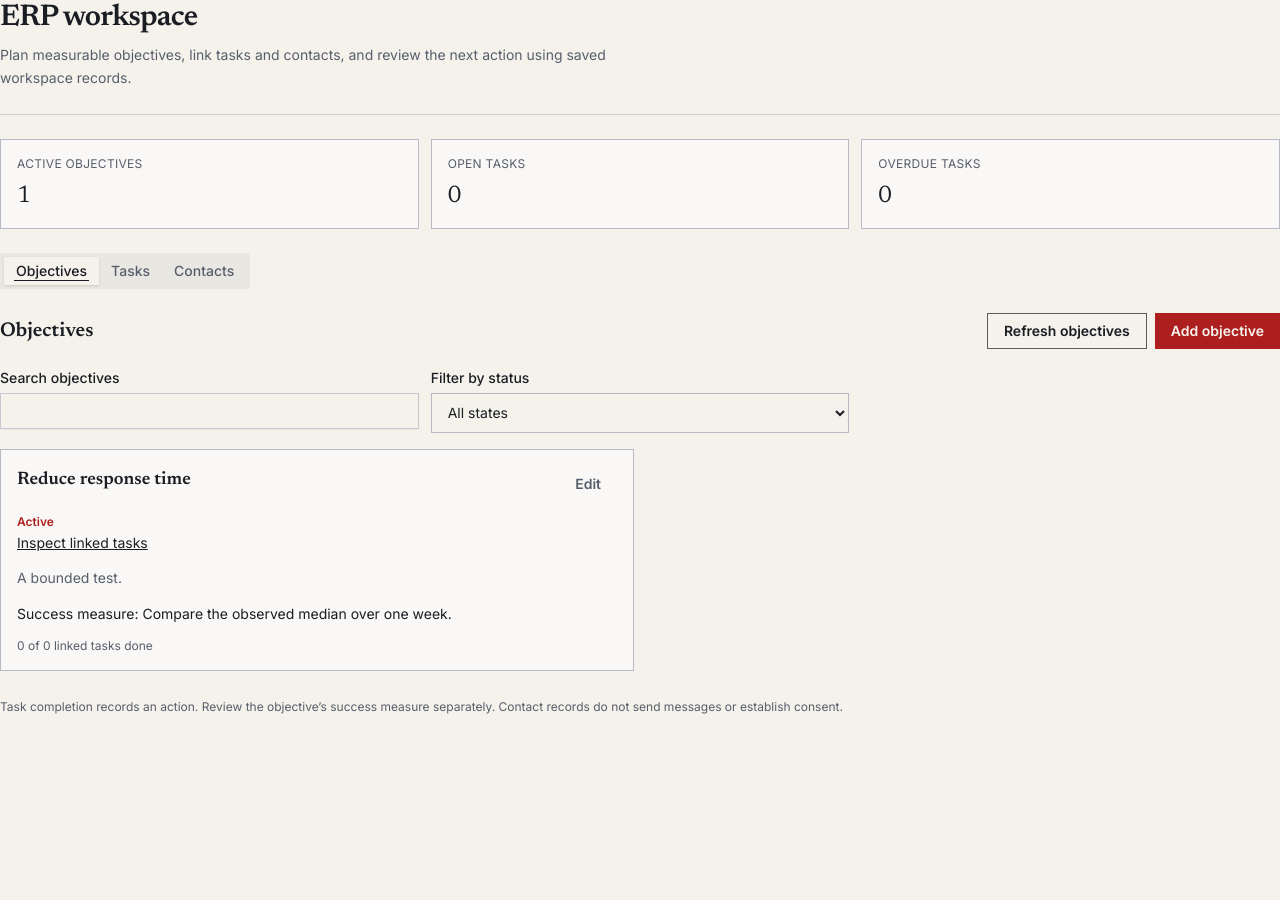
ERP planning › edits contact notes and searches saved contact fields
Click the tab "Contacts" at (204, 270), box [162,256,246,284]
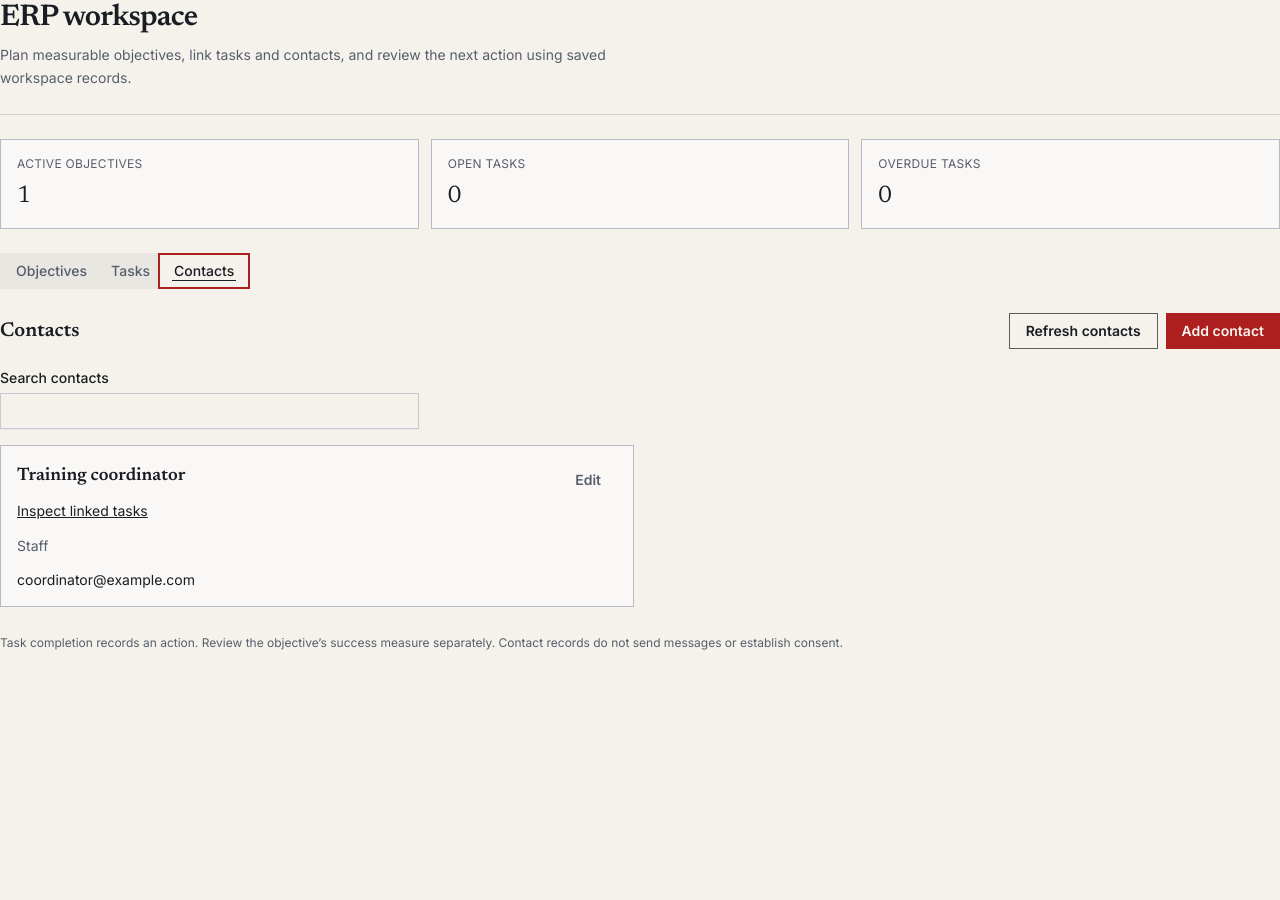
Click the button with aria-label "Edit Training coordinator" at (588, 480), box [559,462,617,498]
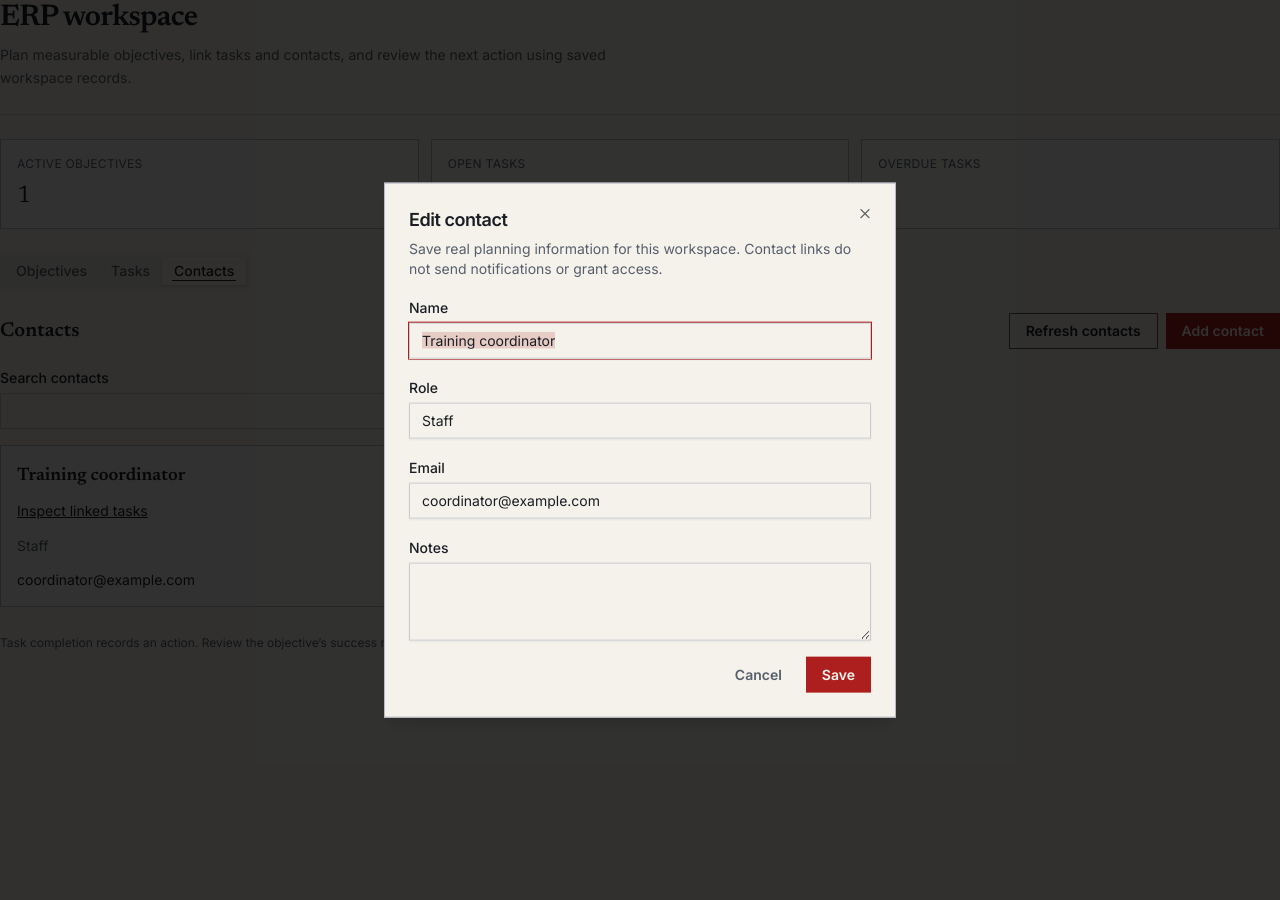
Type "Coordinates the consent review." into the text box labelled "Notes" at (640, 601), box [409,562,871,640]
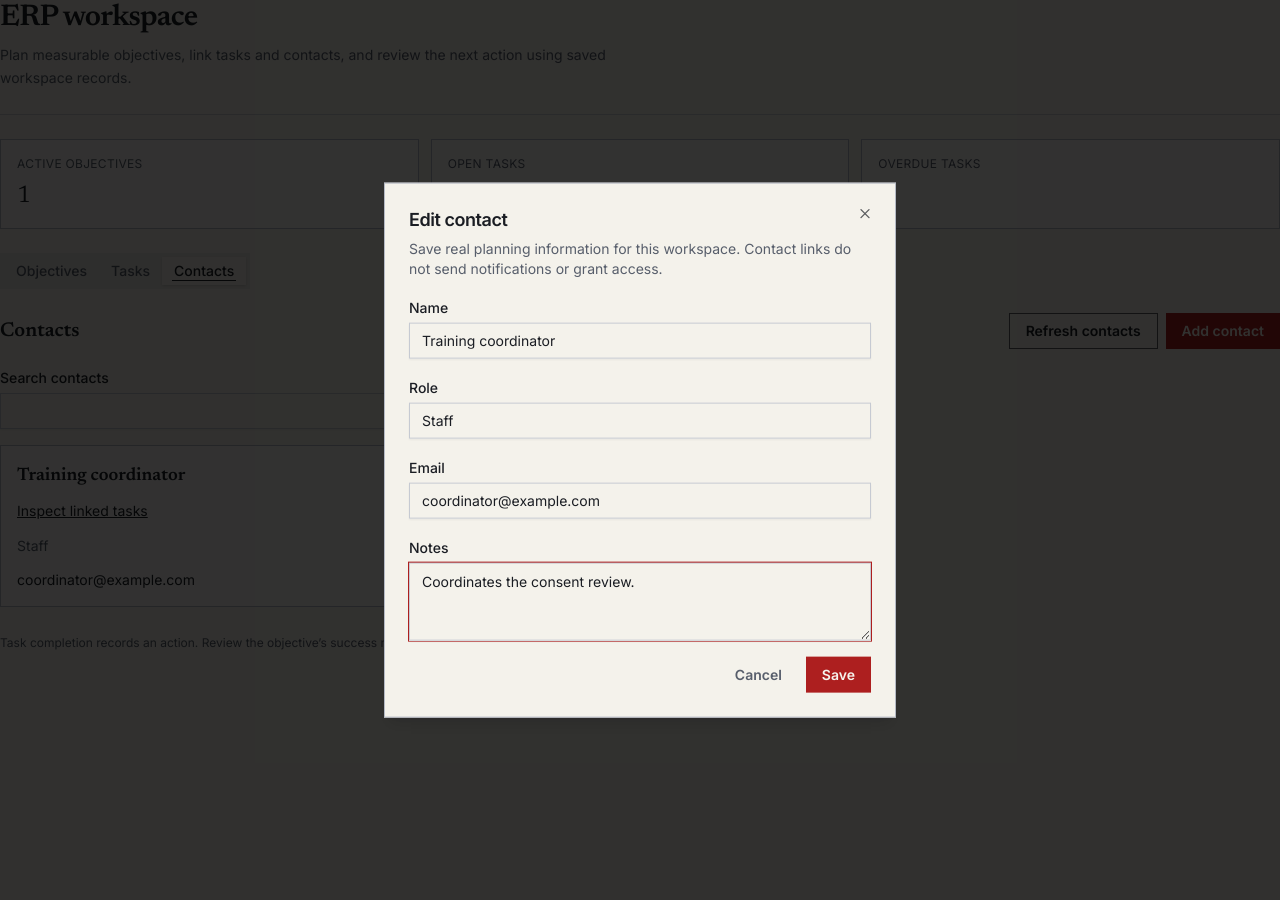
Click the button "Save" at (838, 674), box [806,656,871,692]
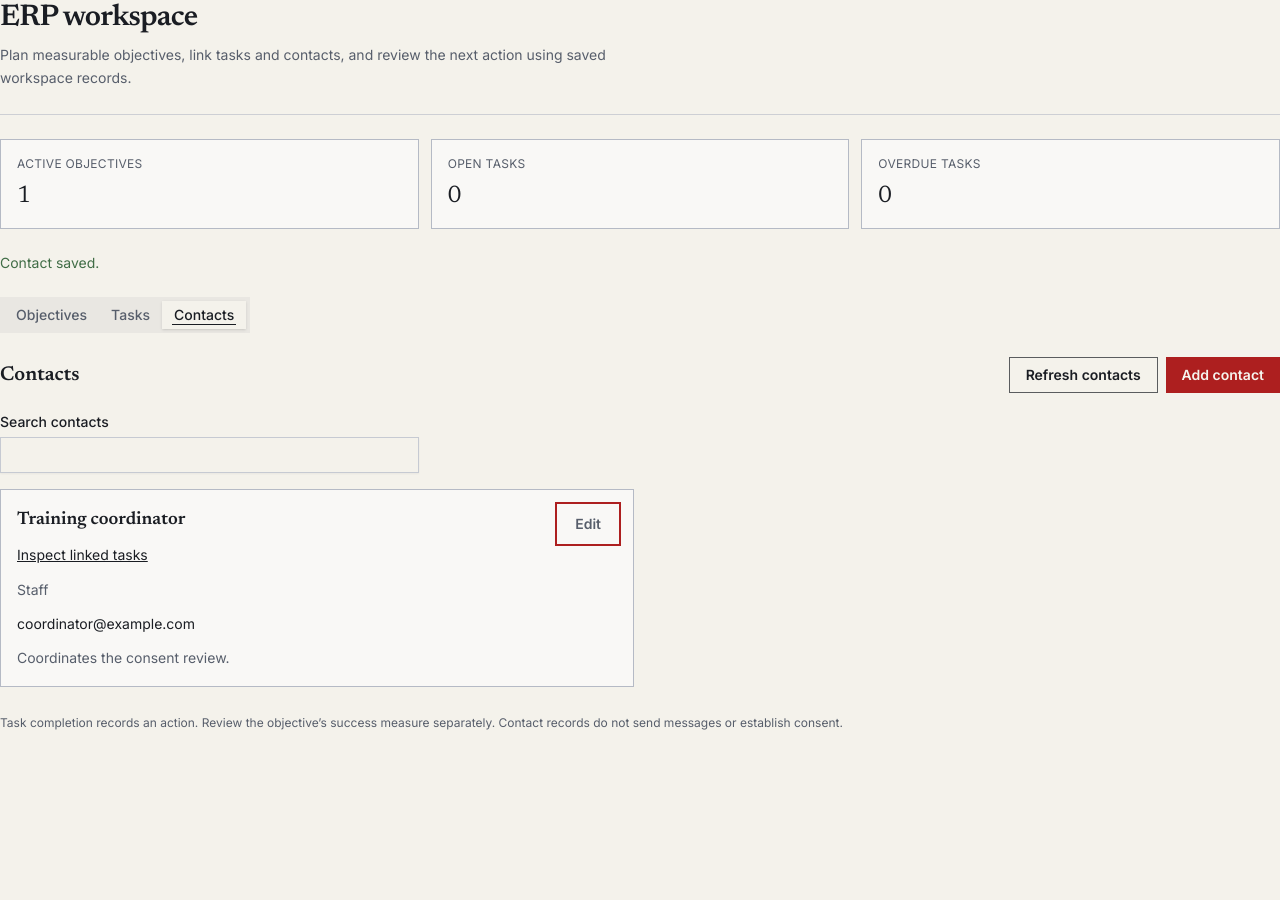
Result: the text "Contact saved." is shown at [0,254,99,270]
Type "consent" into the field labelled "Search contacts" at (209, 454), box [0,436,419,472]
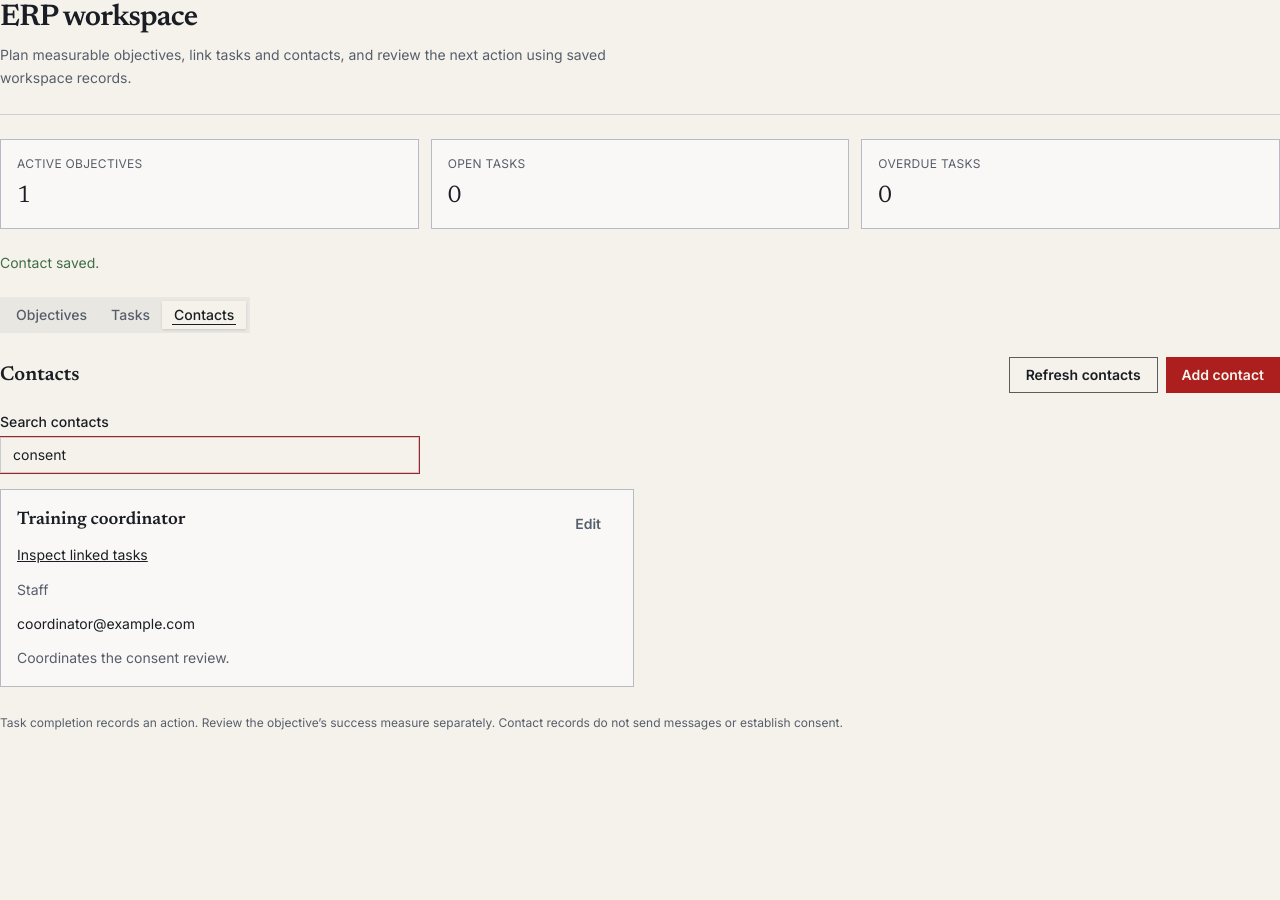
Result: the heading "Training coordinator" is shown at [17,506,185,534]
Replace the text in the field labelled "Search contacts" with "not-there" at (209, 454), box [0,436,419,472]
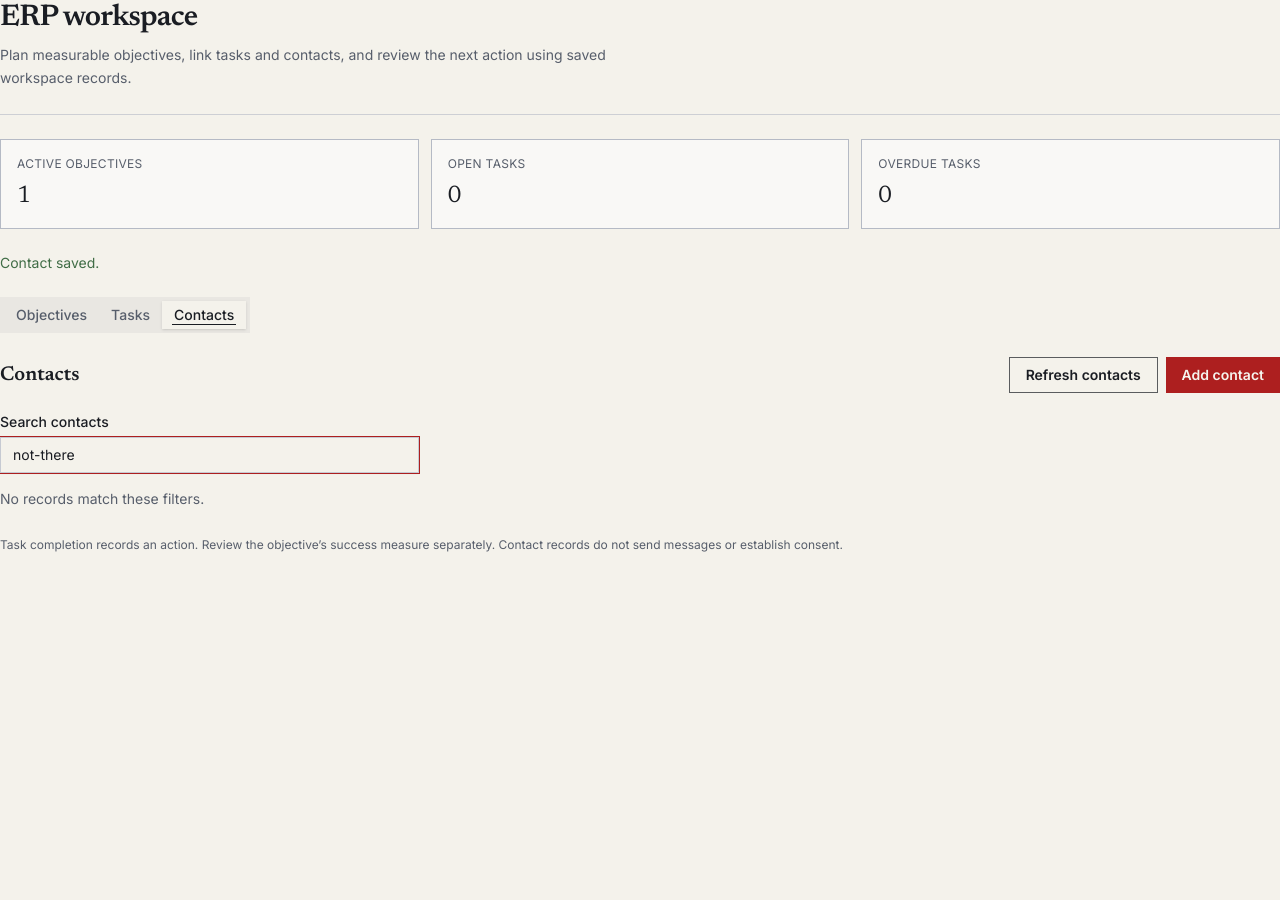
Result: the text "No records match these filters." is shown at [0,490,204,506]
